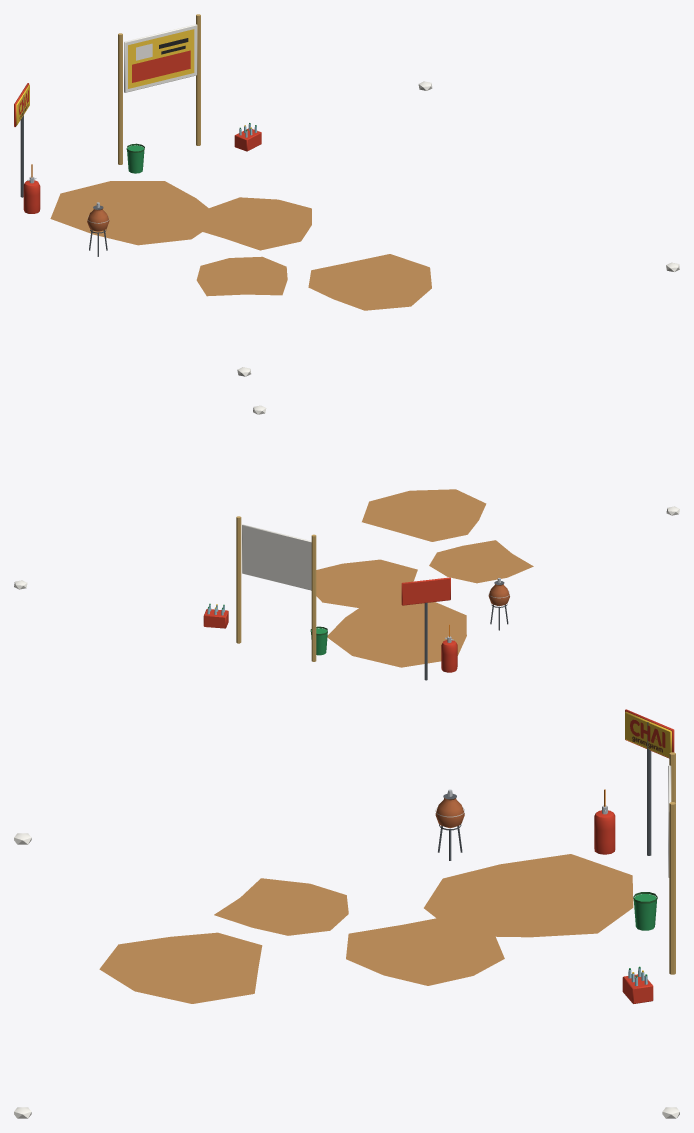
File: growth_cart_yard.glb
3 renders of one model, top to bottom at view 1: azimuth 30°, elevation 25°; view 2: azimuth 150°, elevation 25°; view 3: azimuth 270°, elevation 25°, orthographic. The views are drawn at different scales.
Parts seen in each view (by area): view 1: growth_cart_yard; view 2: growth_cart_yard; view 3: growth_cart_yard.
Boxes of the visible parts, box(x1,y1,x2,y2) form: growth_cart_yard: box(14, 14, 679, 376); growth_cart_yard: box(14, 405, 679, 680); growth_cart_yard: box(14, 709, 679, 1118).
Size of the model in its own units: 9.05 by 2.55 by 9.04.
1 material, 1 textured.
